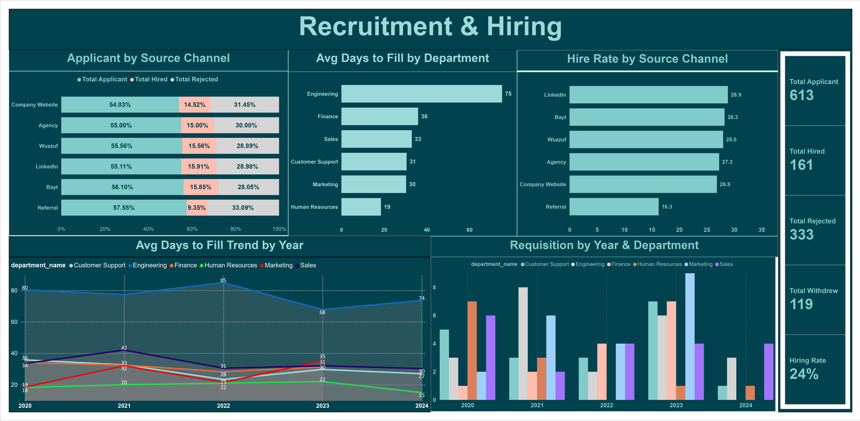

The page's visual inventory and layout, read from the dashboard file:
{"tool":"powerbi","page":{"name":"Recruitment & Hiring","canvas":[2300,1100],"ordinal":3},"visuals":[{"type":"clusteredBarChart","fields":{"Category":["Recruitment_funnel.department_name"],"Y":["Recruitment_funnel.Avg Days to fill"]},"box":[761.7,169.3,624.8,450.5],"z":0},{"type":"textbox","box":[761.7,109.5,624.8,62.2],"z":1000},{"type":"clusteredColumnChart","fields":{"Category":["DateTable.Year"],"Series":["Recruitment_funnel.department_name"],"Y":["Recruitment_funnel.Total Requisition"]},"box":[1150,674.6,940.9,423.2],"z":2000},{"type":"hundredPercentStackedBarChart","fields":{"Category":["Recruitment_funnel.req_source_channel"],"Y":["Recruitment_funnel.Total Applicant","Recruitment_funnel.Total Hired","Recruitment_funnel.Total Rejected"]},"box":[0,170,762,448],"z":3000},{"type":"clusteredBarChart","fields":{"Y":["Recruitment_funnel.Hire Rate %"],"Category":["Recruitment_funnel.req_source_channel"]},"box":[1386.5,171.8,711.9,448.1],"z":4000},{"type":"textbox","box":[0,110,762,60],"z":5000},{"type":"textbox","box":[1386.5,112,711.9,57.3],"z":6000},{"type":"textbox","box":[1150,619.8,948.4,57.3],"z":7000},{"type":"textbox","box":[0,0,2300,112],"z":8000},{"type":"lineChart","fields":{"Category":["DateTable.Year"],"Y":["Recruitment_funnel.Avg Days to fill"],"Series":["Recruitment_funnel.department_name"]},"box":[0,677.1,1150,423.2],"z":9000},{"type":"textbox","box":[0,619.8,1150,57.3],"z":10000},{"type":"cardVisual","fields":{"Data":["Recruitment_funnel.Total Applicant","Recruitment_funnel.Total Hired","Recruitment_funnel.Total Rejected","Recruitment_funnel.Total Withdrew","Recruitment_funnel.Overall Hire Rate"]},"box":[2098.4,109.5,201.6,990.7],"z":10001}]}

Visuals, with their boxes in screenshot pixels (x1, y1, x2, y2), scaled from the page's 2300x1100 canvas onto the 860x421 screenshot:
clusteredBarChart - Recruitment_funnel.department_name x Recruitment_funnel.Avg Days to fill: bbox=[285, 65, 518, 237]
textbox: bbox=[285, 42, 518, 66]
clusteredColumnChart - DateTable.Year x Recruitment_funnel.department_name: bbox=[430, 258, 782, 420]
hundredPercentStackedBarChart - Recruitment_funnel.req_source_channel x Recruitment_funnel.Total Applicant: bbox=[0, 65, 285, 237]
clusteredBarChart - Recruitment_funnel.Hire Rate % x Recruitment_funnel.req_source_channel: bbox=[518, 66, 785, 237]
textbox: bbox=[0, 42, 285, 65]
textbox: bbox=[518, 43, 785, 65]
textbox: bbox=[430, 237, 785, 259]
textbox: bbox=[0, 0, 859, 43]
lineChart - DateTable.Year x Recruitment_funnel.Avg Days to fill: bbox=[0, 259, 430, 420]
textbox: bbox=[0, 237, 430, 259]
cardVisual - Recruitment_funnel.Total Applicant x Recruitment_funnel.Total Hired: bbox=[785, 42, 859, 420]
